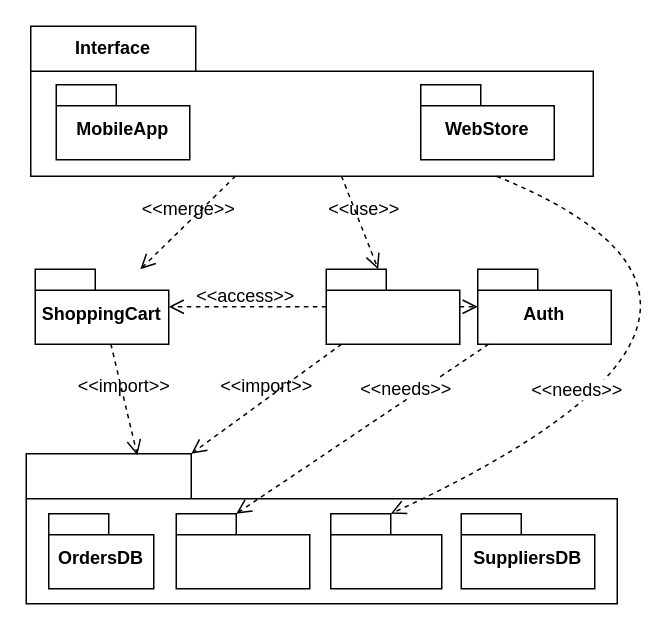
This 668x630 diagram has some shape labels left out. Here are the shapes that lost their labels. From the top down, the box of each, then its label:
(325, 268, 460, 344): Payment
(25, 452, 617, 604): Database
(175, 512, 310, 589): CustomersDB
(329, 512, 442, 589): ProductsDB
